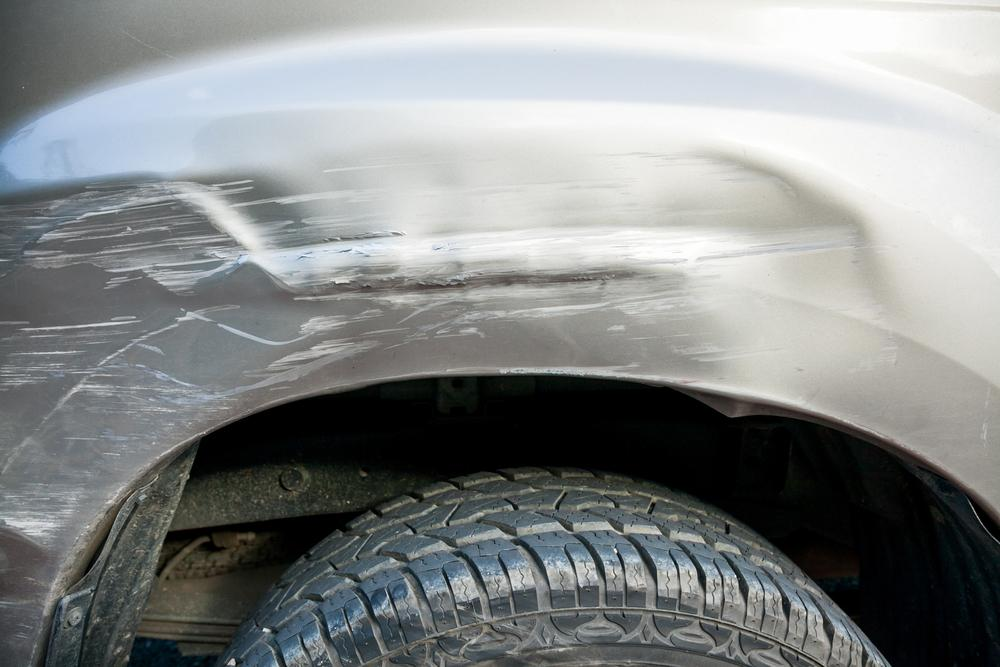dent: (0, 130, 895, 560)
